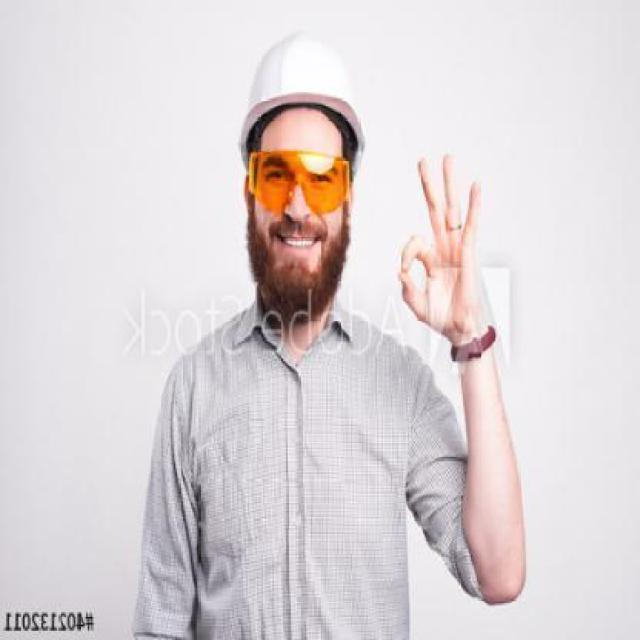face_mask: (246, 146, 357, 214)
face_nomask: (252, 152, 346, 268)
hand_noglove: (395, 151, 496, 347)
head_helmet: (233, 29, 373, 145)
person: (144, 23, 536, 640)
